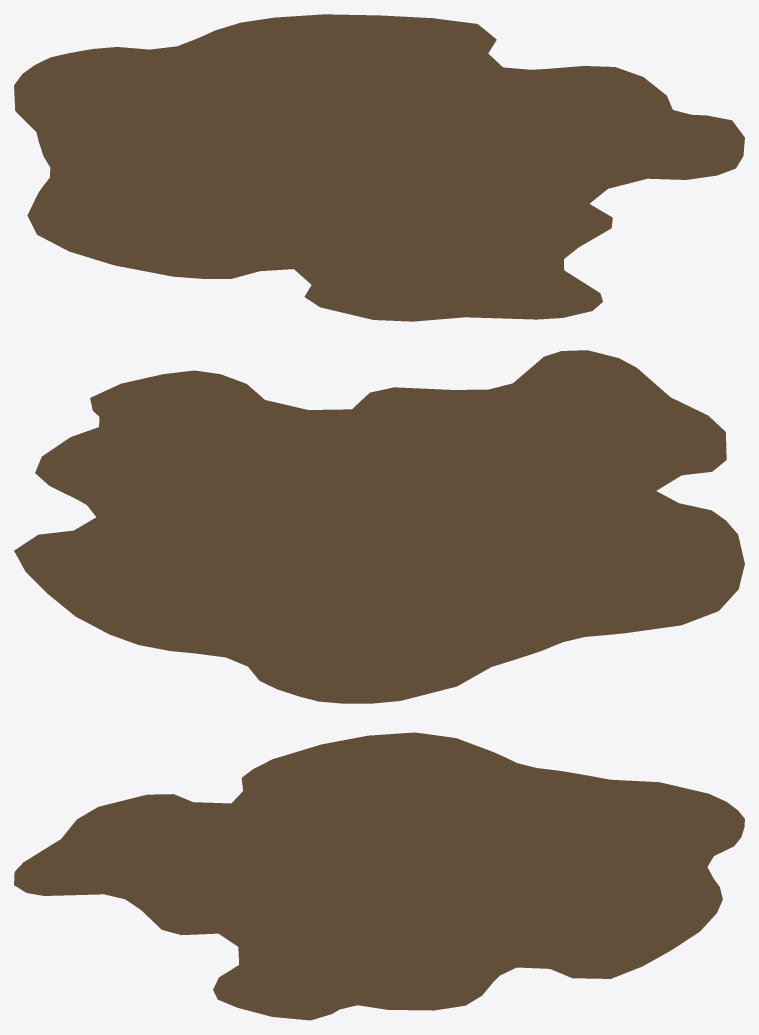
Rendered from Plates_Small_2_Water.fbx.
3 renders of one model, top to bottom at view 1: azimuth 30°, elevation 25°; view 2: azimuth 150°, elevation 25°; view 3: azimuth 270°, elevation 25°, orthographic. The views are drawn at different scales.
Parts seen in each view (by area): view 1: Plates_Small_2_Water; view 2: Plates_Small_2_Water; view 3: Plates_Small_2_Water.
Boxes of the visible parts, x1,y1,x2,y2 form: Plates_Small_2_Water: [14, 14, 744, 321]; Plates_Small_2_Water: [14, 350, 744, 703]; Plates_Small_2_Water: [14, 732, 744, 1020].
Bounding box in the file's own units: 15.47 × 0 × 16.59.
1 material, 1 textured.
